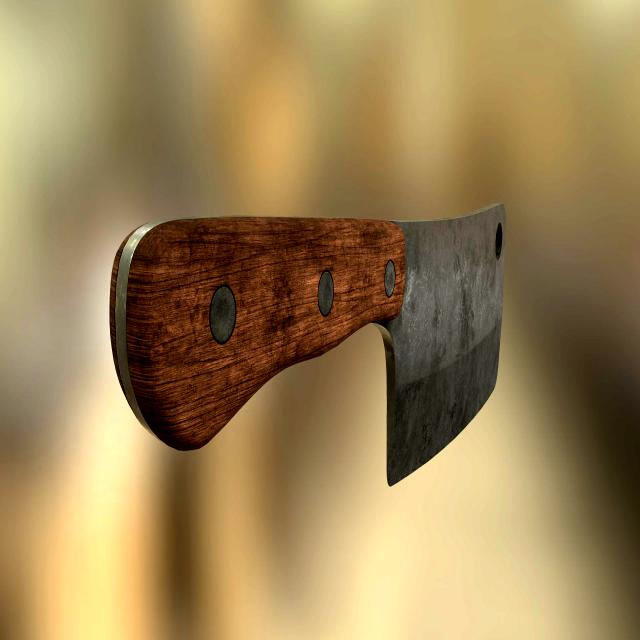cleaver: (110, 193, 510, 485)
